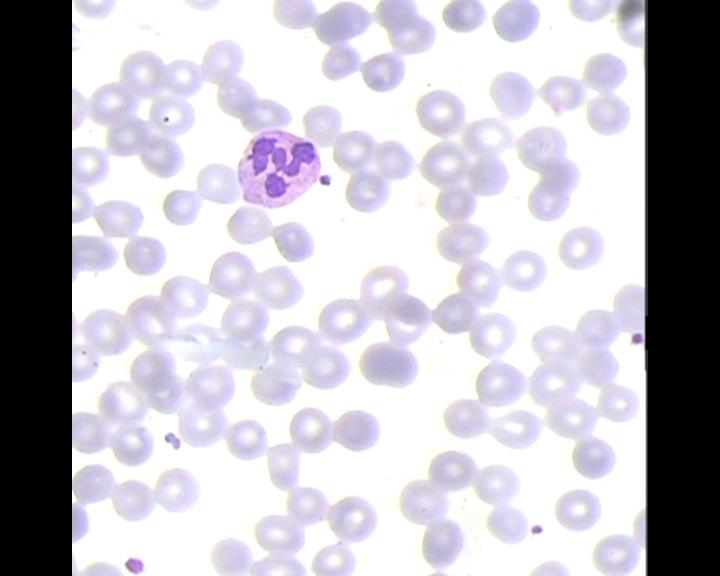neut: (234, 123, 327, 209)
